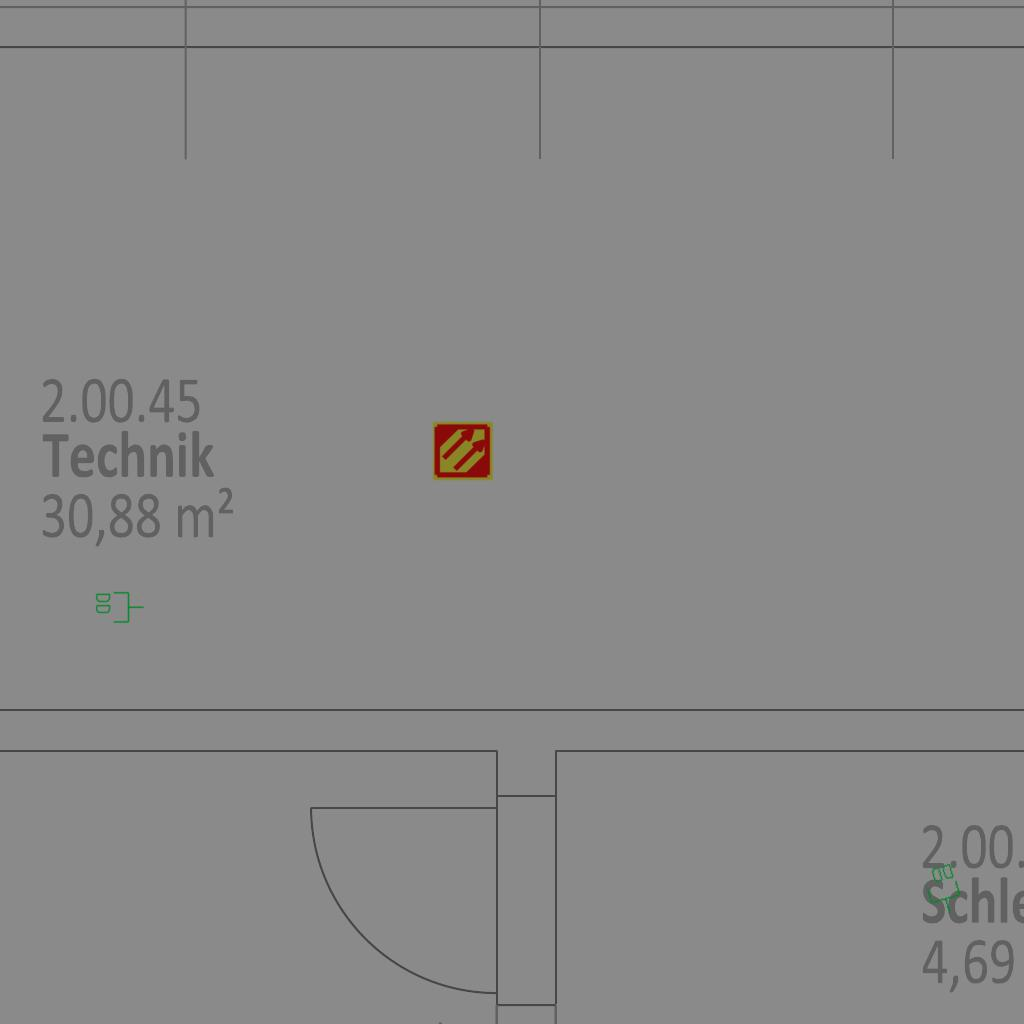ASR_Ansaugrauchmelder: (432, 420, 494, 482)
Datenanschluss_zweifach: (920, 860, 967, 920), (94, 590, 145, 624)
